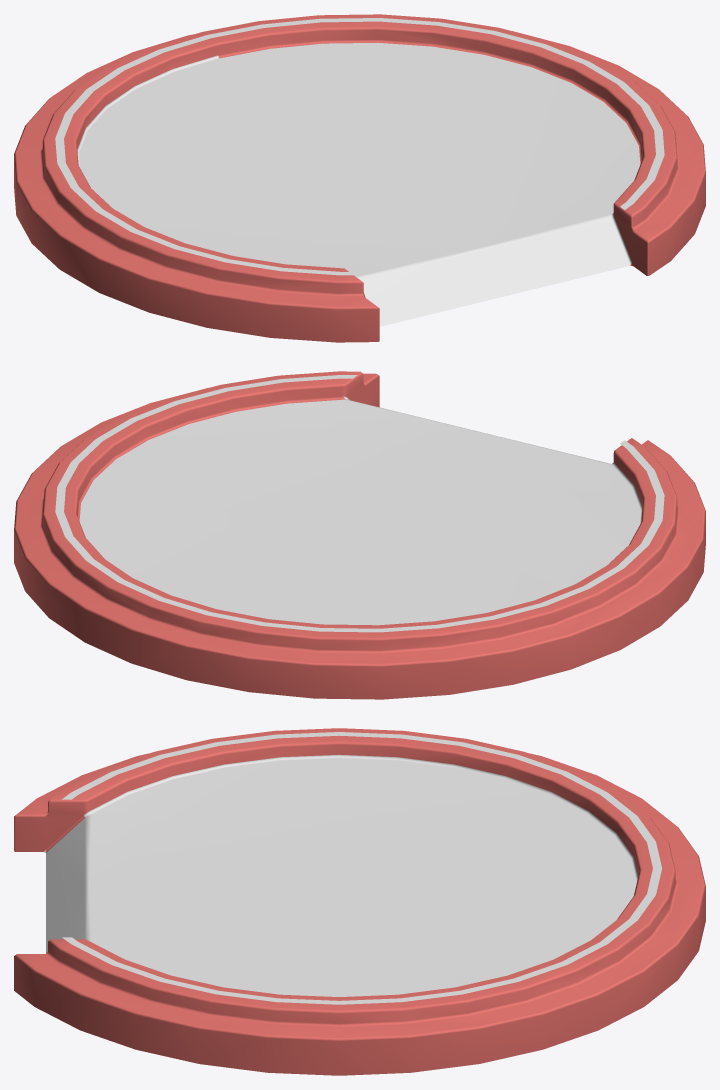
3 views of the same model, one above another, from view 1: azimuth 30°, elevation 25°; view 2: azimuth 150°, elevation 25°; view 3: azimuth 270°, elevation 25° (orthographic). The views are drawn at different scales.
Visible parts, largest first — view 1: Base; view 2: Base; view 3: Base.
Boxes of the visible parts, <box> form: Base: <box>14,14,705,342</box>; Base: <box>14,371,705,699</box>; Base: <box>14,728,705,1075</box>.
Bounding box in the file's own units: 9 × 8.49 × 0.7114.
